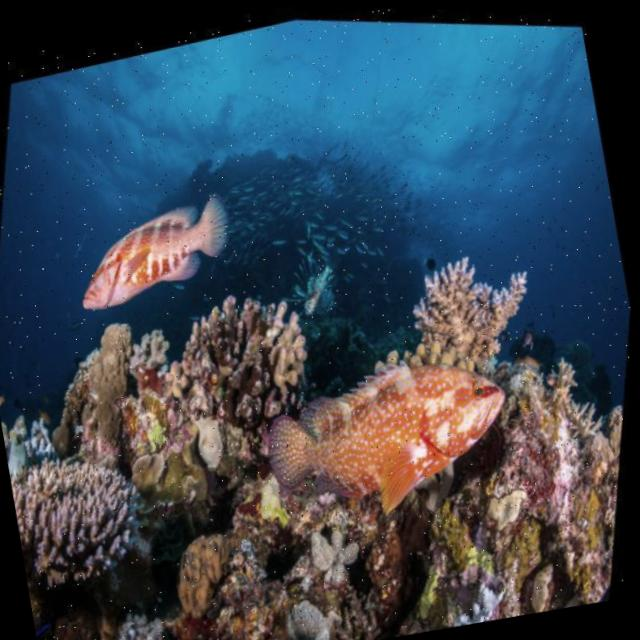Healthy Coral: (5, 424, 174, 625), (401, 219, 552, 371), (538, 341, 630, 457), (362, 316, 492, 395), (161, 514, 250, 629), (250, 287, 334, 399), (117, 435, 206, 523), (106, 589, 181, 640), (124, 316, 180, 375), (157, 347, 201, 400)
